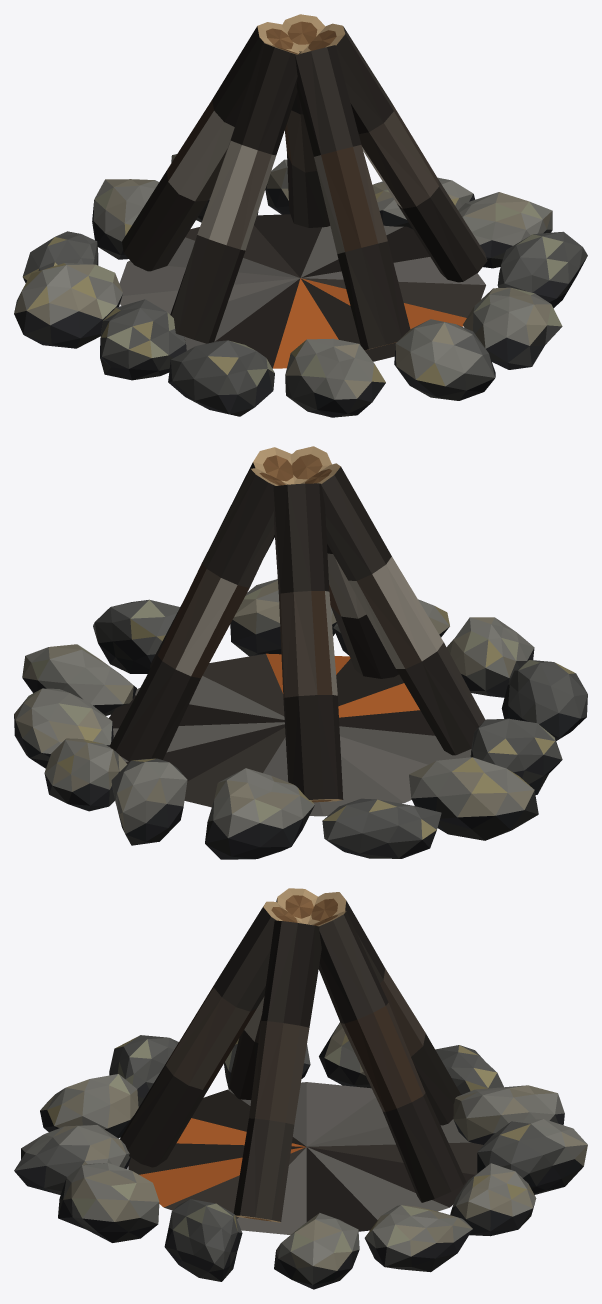
Rendered from campfire.glb.
3 views of the same model, one above another, from view 1: azimuth 30°, elevation 25°; view 2: azimuth 150°, elevation 25°; view 3: azimuth 270°, elevation 25° (orthographic). The views are drawn at different scales.
Parts seen in each view (by area): view 1: campfire; view 2: campfire; view 3: campfire.
Part boxes in pixels (<box>): campfire: <box>14,14,587,417</box>; campfire: <box>14,446,587,859</box>; campfire: <box>14,888,587,1289</box>.
Size of the model in its own units: 1.04 by 0.552 by 1.03.
